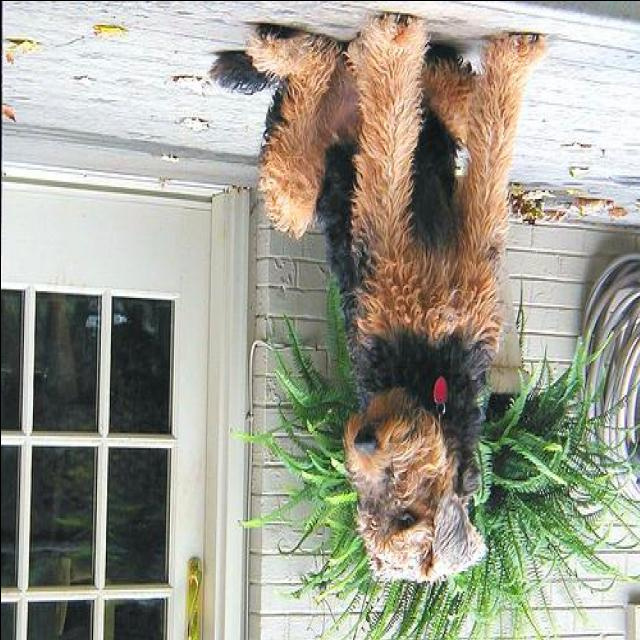airedale: (210, 16, 548, 582)
